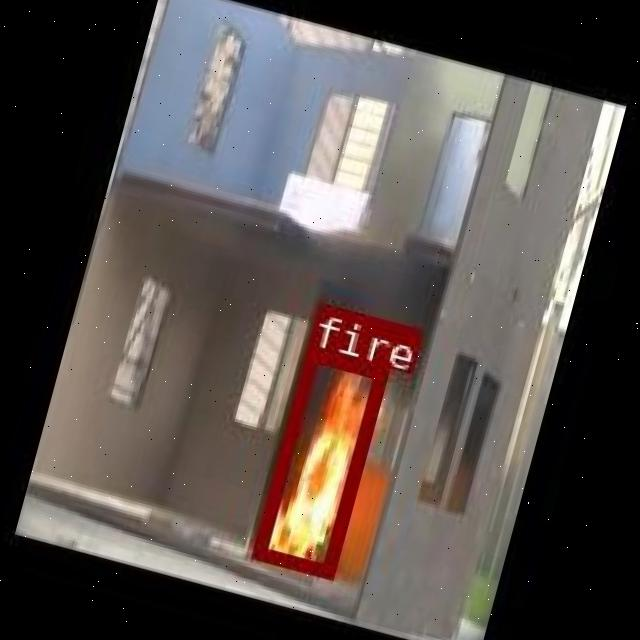fire: (250, 343, 386, 578)
